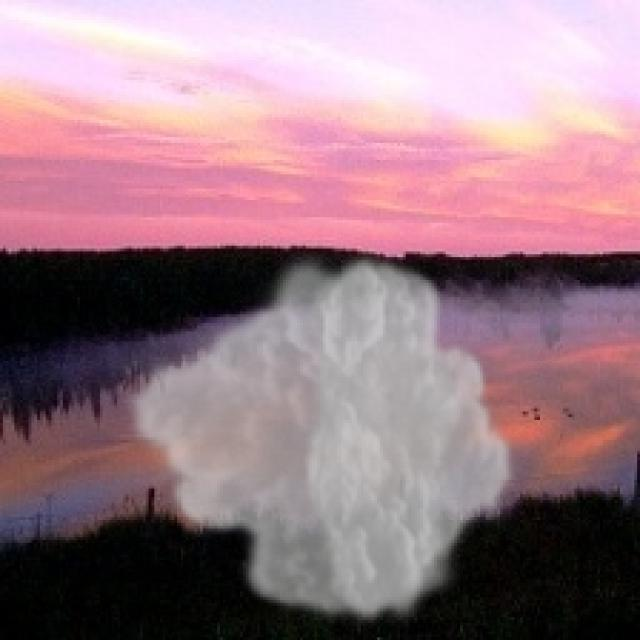smoke: (123, 246, 517, 631)
